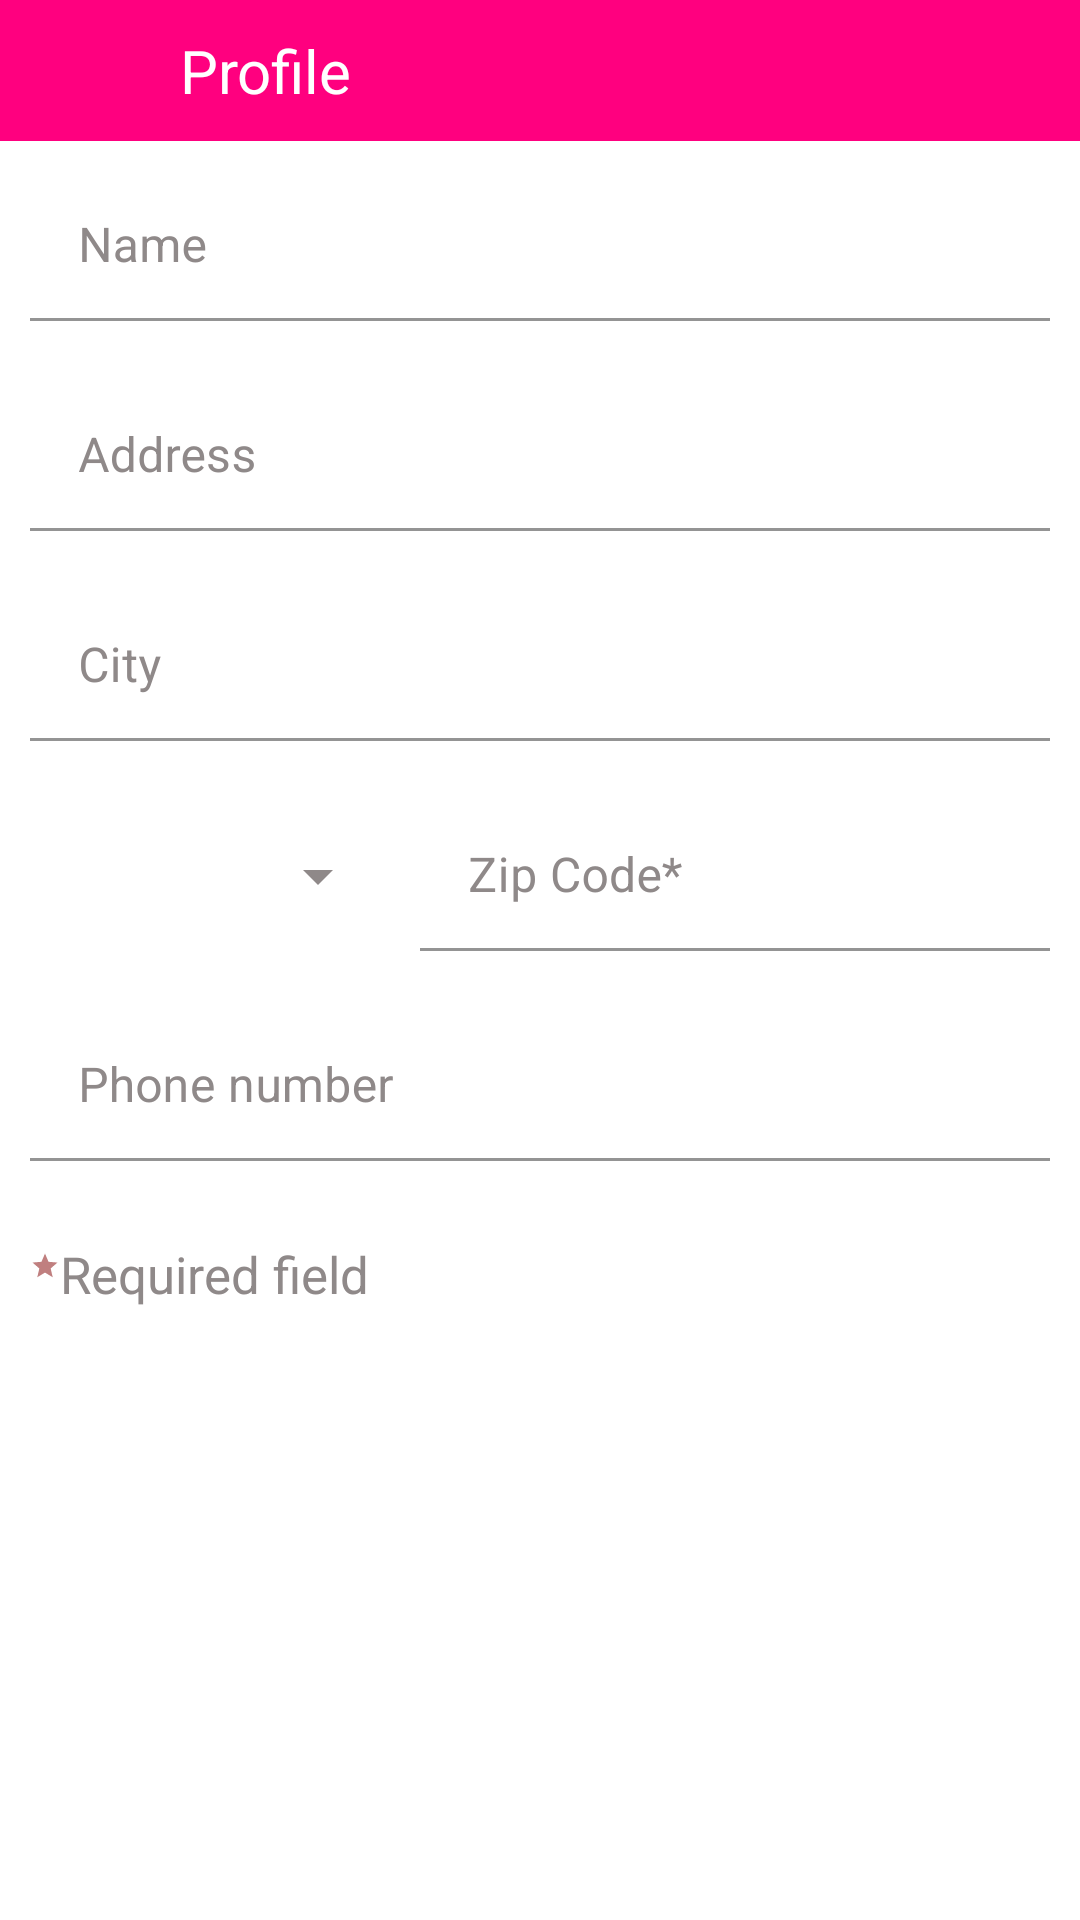

Point at icon controls on the screen. Image size 1080 × 1920, points as [x,y].
star: [45,1265]
